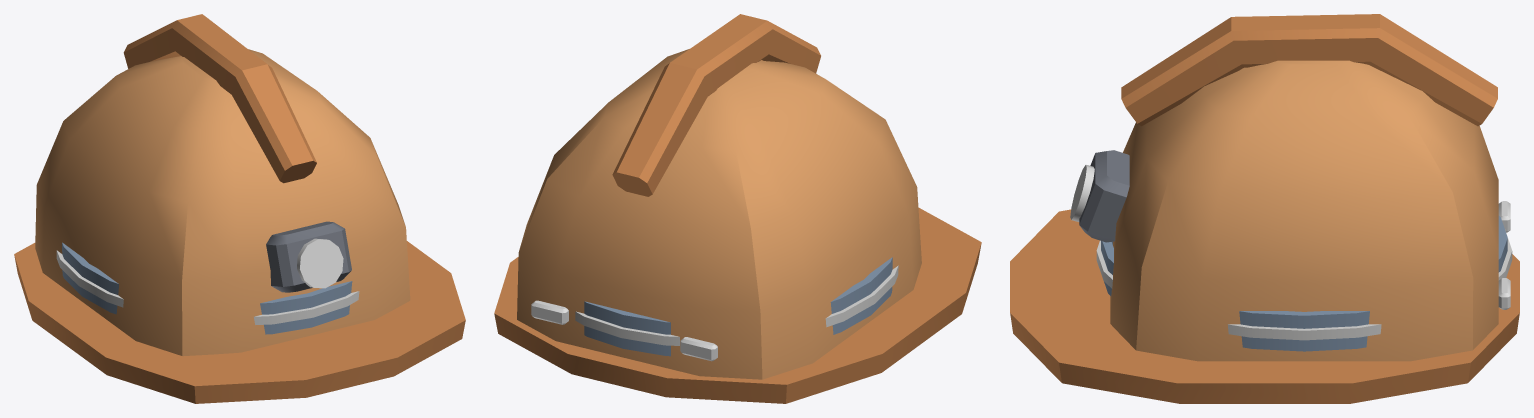
Rendered from gear_casque_docker.glb.
3 renders of one model, left to right at view 1: azimuth 30°, elevation 25°; view 2: azimuth 150°, elevation 25°; view 3: azimuth 270°, elevation 25°, orthographic. The views are drawn at different scales.
Parts seen in each view (by area): view 1: head__casque_docker, head__casque_docker_glow; view 2: head__casque_docker, head__casque_docker_glow; view 3: head__casque_docker, head__casque_docker_glow.
Boxes of the visible parts, x1,y1,x2,y2 form: head__casque_docker: (14,14,465,403); head__casque_docker_glow: (297,238,343,288); head__casque_docker: (494,14,981,403); head__casque_docker_glow: (531,300,717,361); head__casque_docker: (1010,14,1519,403); head__casque_docker_glow: (1070,165,1510,309).
Bounding box in the file's own units: 0.3 × 0.2095 × 0.336.
